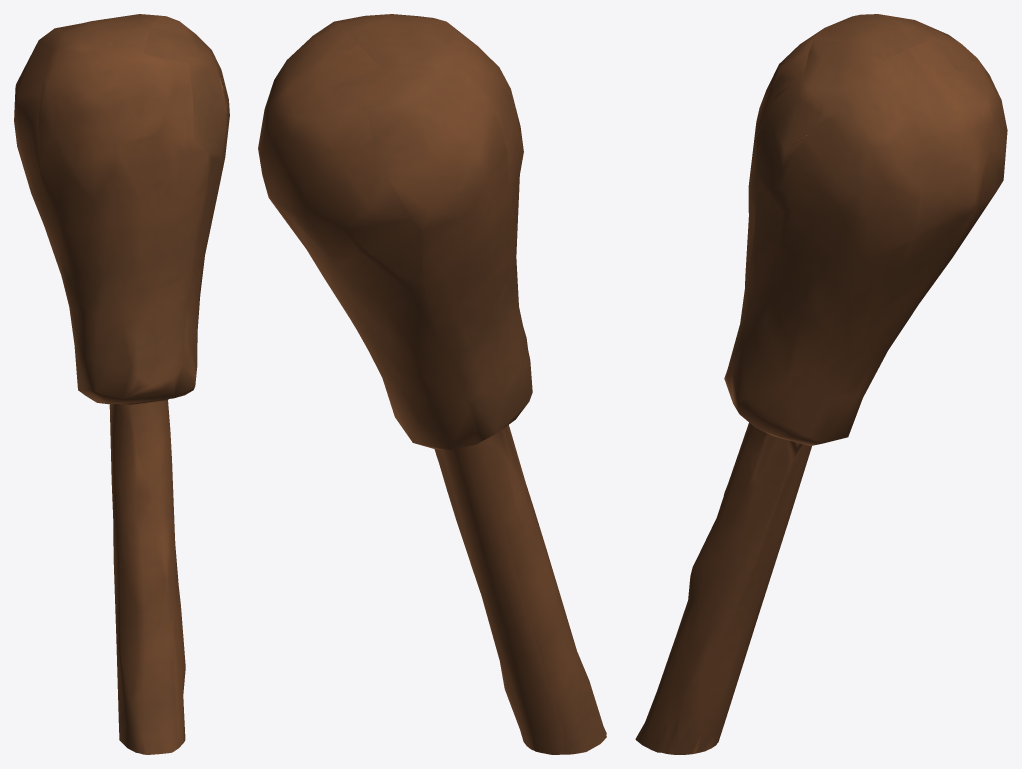
The model's file is wind_control_handle.glb.
3 views of the same model, side by side, from view 1: azimuth 30°, elevation 25°; view 2: azimuth 150°, elevation 25°; view 3: azimuth 270°, elevation 25° (orthographic). The views are drawn at different scales.
Parts seen in each view (by area): view 1: lever_handle; view 2: lever_handle; view 3: lever_handle.
Boxes of the visible parts, x1,y1,x2,y2 form: lever_handle: (14,14,229,754); lever_handle: (258,14,606,754); lever_handle: (635,14,1007,754).
Bounding box in the file's own units: 0.0421 × 0.1356 × 0.062.
1 material, 1 textured.
